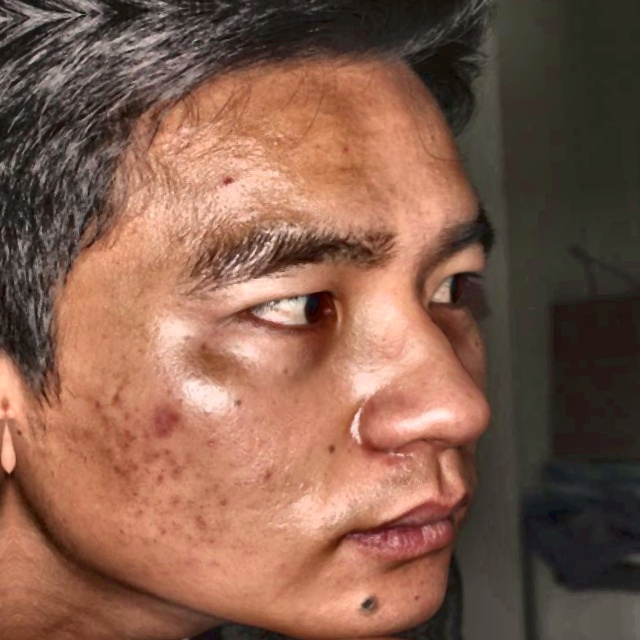comedone: (135, 398, 195, 447)
